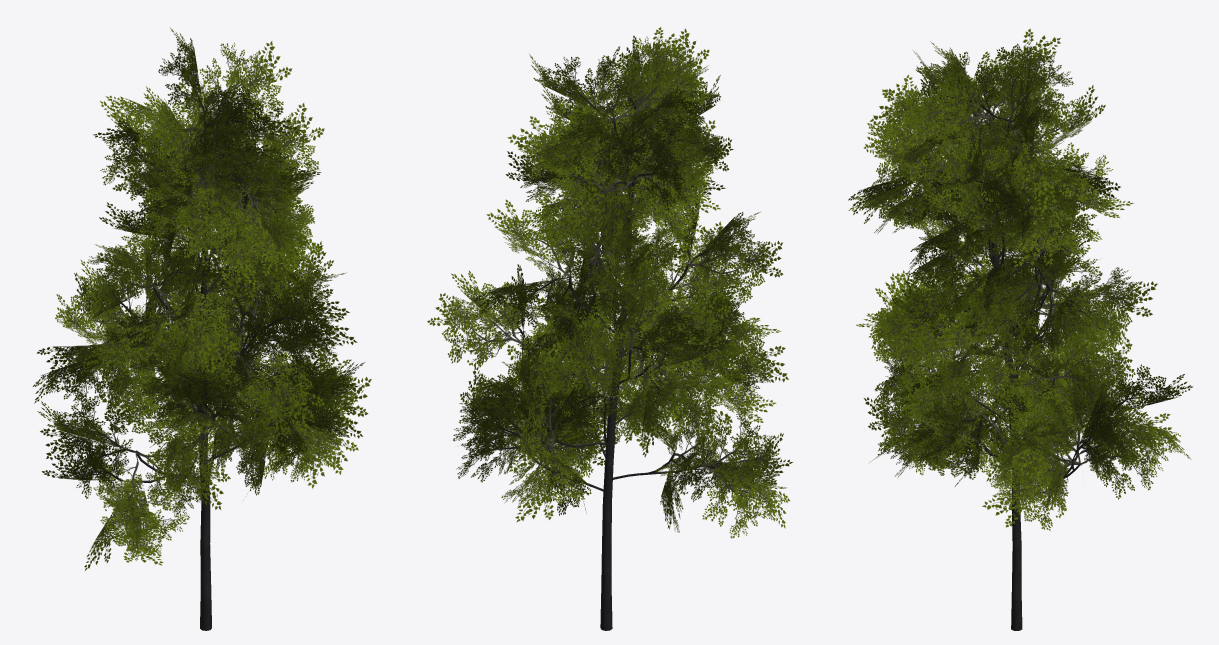
File: birch_tall.glb
3 renders of one model, left to right at view 1: azimuth 30°, elevation 25°; view 2: azimuth 150°, elevation 25°; view 3: azimuth 270°, elevation 25°, orthographic.
Visible parts, largest first — view 1: Object_73; view 2: Object_73; view 3: Object_73.
Boxes of the visible parts, x1,y1,x2,y2 form: Object_73: [32, 28, 371, 630]; Object_73: [427, 27, 792, 630]; Object_73: [848, 28, 1193, 630].
Bounding box in the file's own units: 12.78 × 21.62 × 12.01.
Materials: 2 (2 with a texture image).
